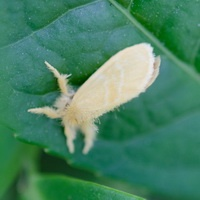insect: (28, 43, 160, 153)
